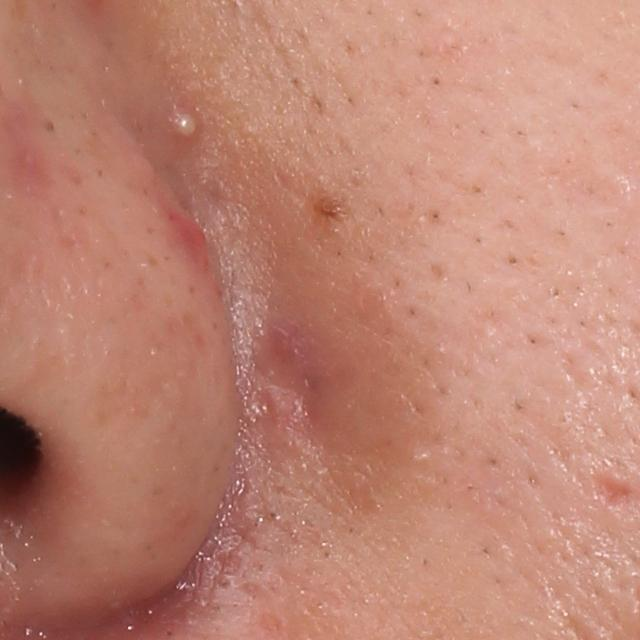atrophic_scar: (589, 476, 634, 509)
nevus: (309, 192, 351, 222)
pustule: (169, 107, 199, 142)
